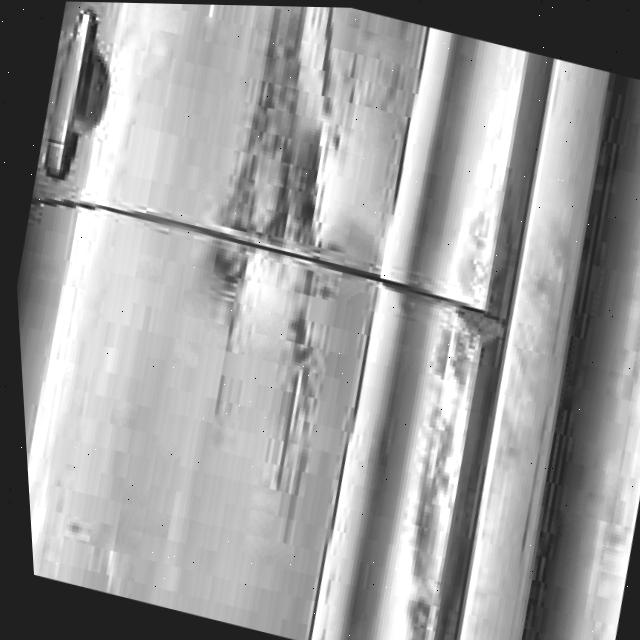door_scratch: (124, 3, 423, 548), (359, 286, 531, 640)
